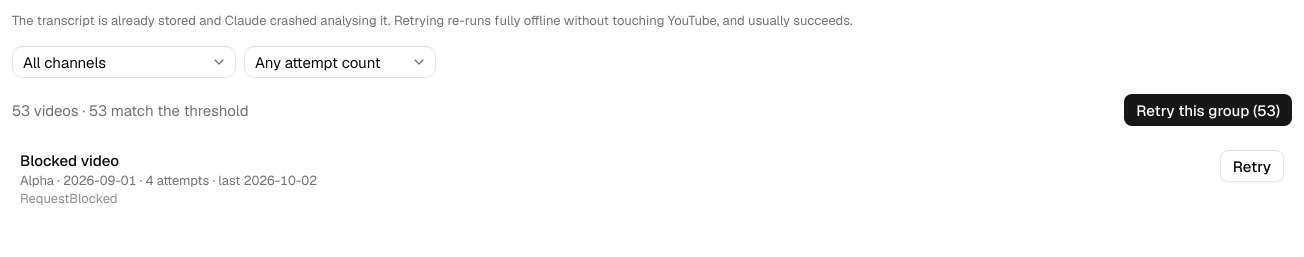
Test: FailedVideos › reports a failed retry
Click the button "Retry this group (53)" at (1208, 110), box x1=1124 y1=94 x2=1292 y2=126
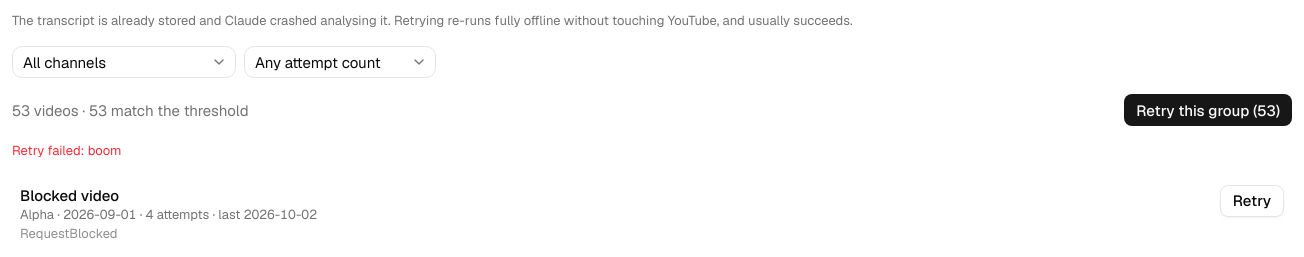
Expected: the text "Retry failed: boom" is shown, x1=12 y1=142 x2=121 y2=159
